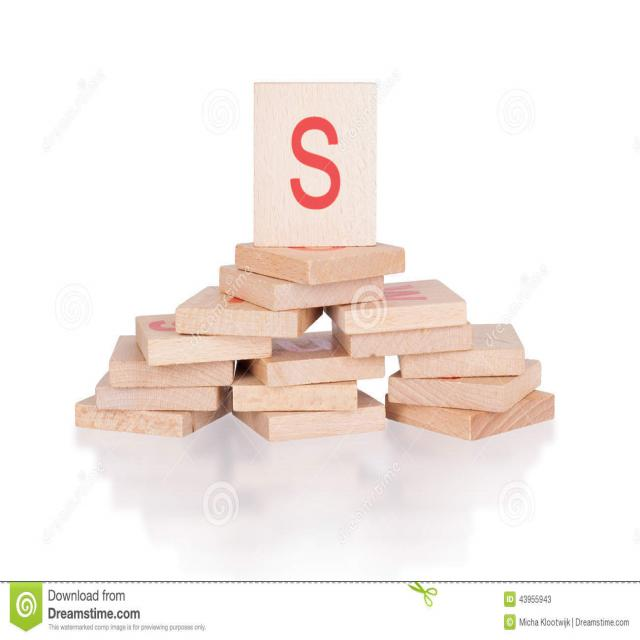S: (271, 99, 346, 228)
